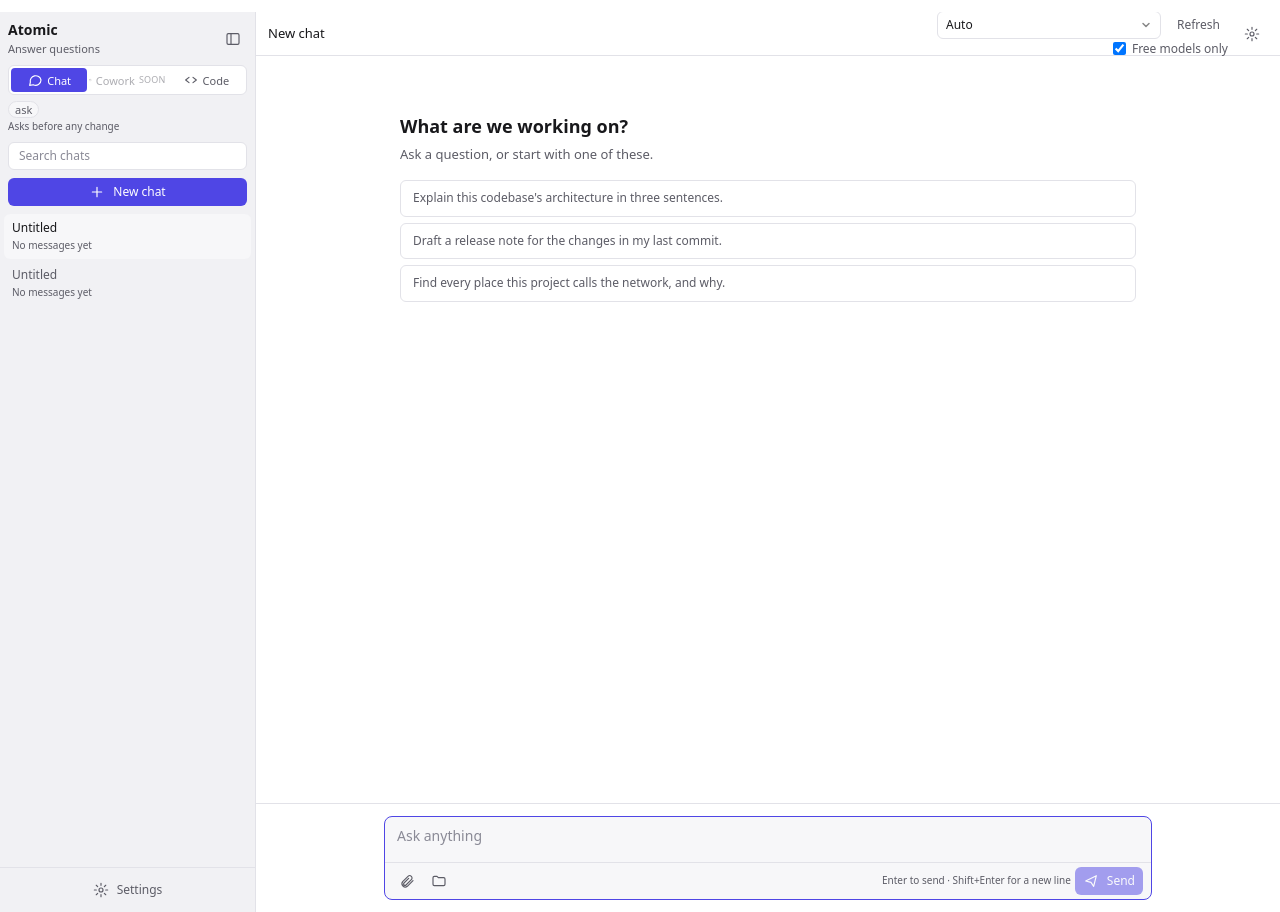
Test: New chat, through the real App › says so when it reuses the blank Code chat, rather than doing nothing
Check: the button "New chat" is enabled, box [8,178,247,206]
Click the radio button labelled "Code".
click(206, 80)  # box [168,68,244,92]
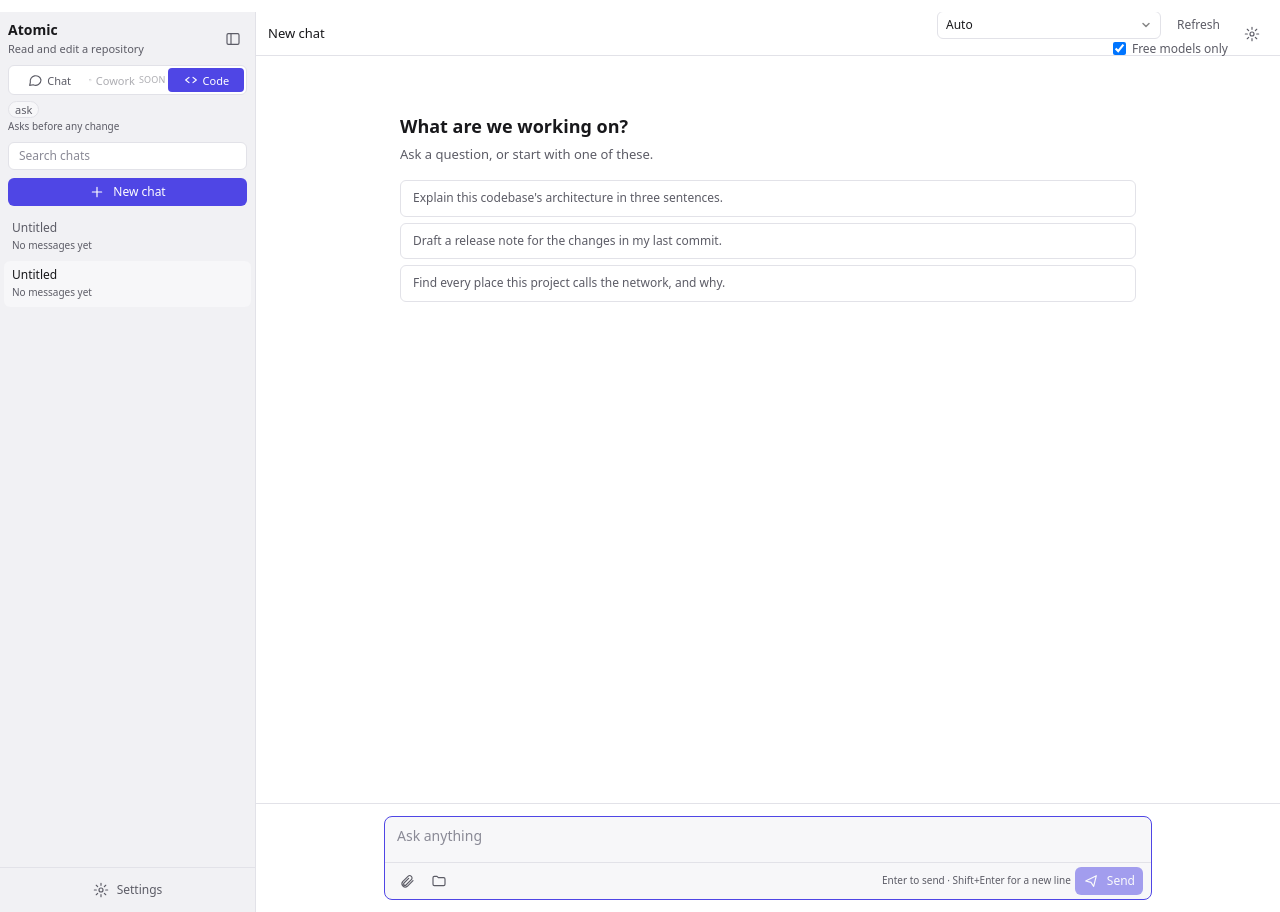
Check: the text box labelled "Ask anything" is enabled, box [385,817,1151,856]
Click the button "New chat".
click(128, 192)  # box [8,178,247,206]
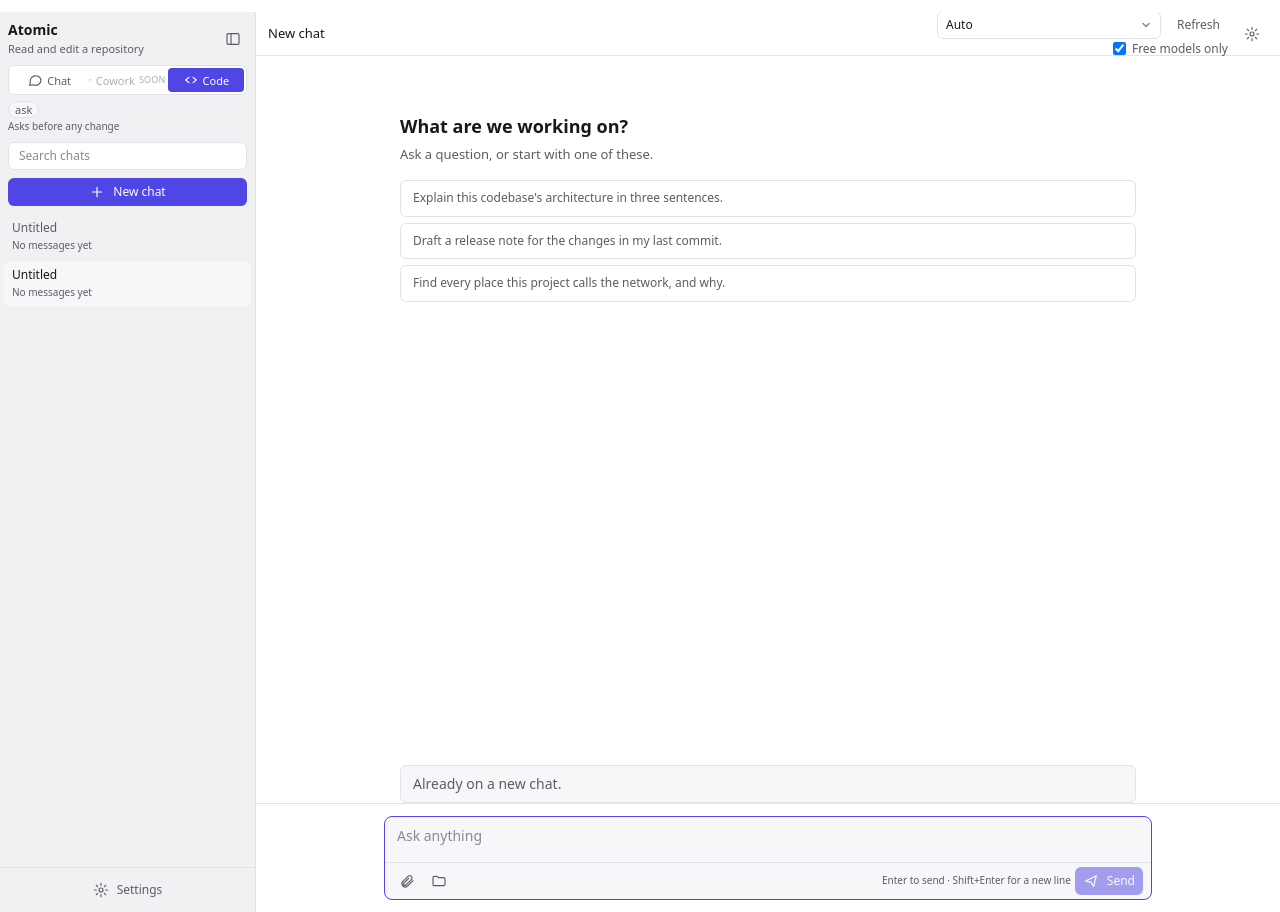
Check: the message shows "Already on a new chat", box [413,774,561,793]
